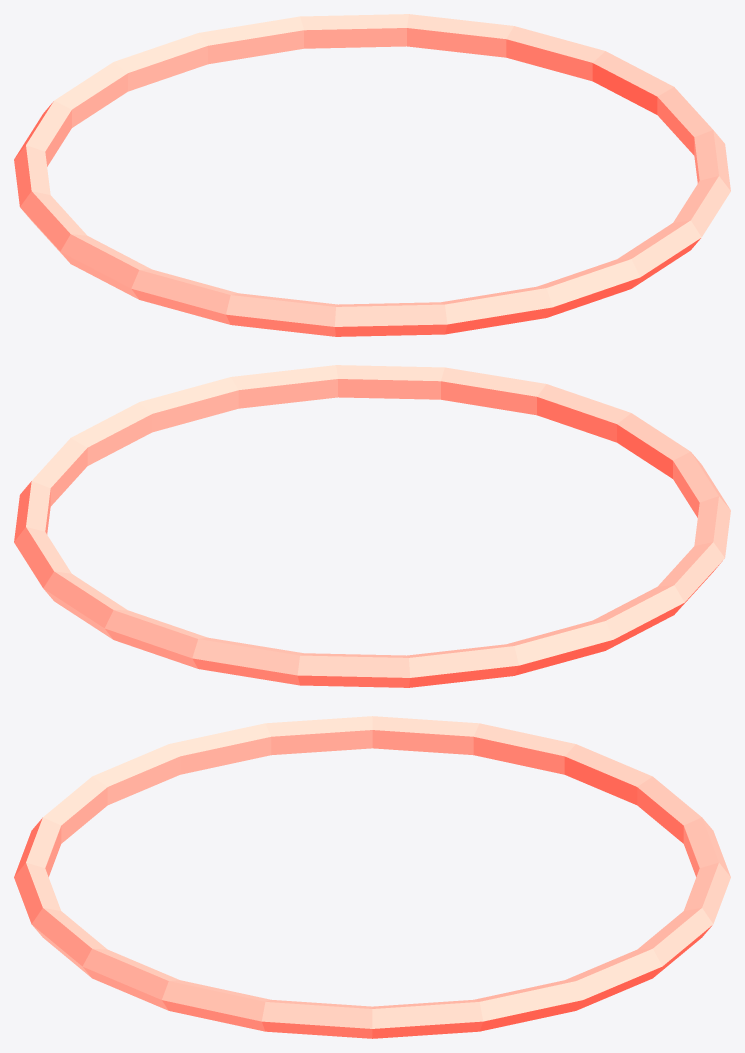
The model's file is ring0.glb.
3 views of the same model, one above another, from view 1: azimuth 30°, elevation 25°; view 2: azimuth 150°, elevation 25°; view 3: azimuth 270°, elevation 25° (orthographic).
Visible parts, largest first — view 1: Torus.001; view 2: Torus.001; view 3: Torus.001.
Part boxes in pixels (bbox=[...]): Torus.001: bbox=[14, 14, 730, 336]; Torus.001: bbox=[14, 365, 730, 687]; Torus.001: bbox=[14, 716, 730, 1038].
Size of the model in its own units: 27.36 by 1.26 by 27.36.
